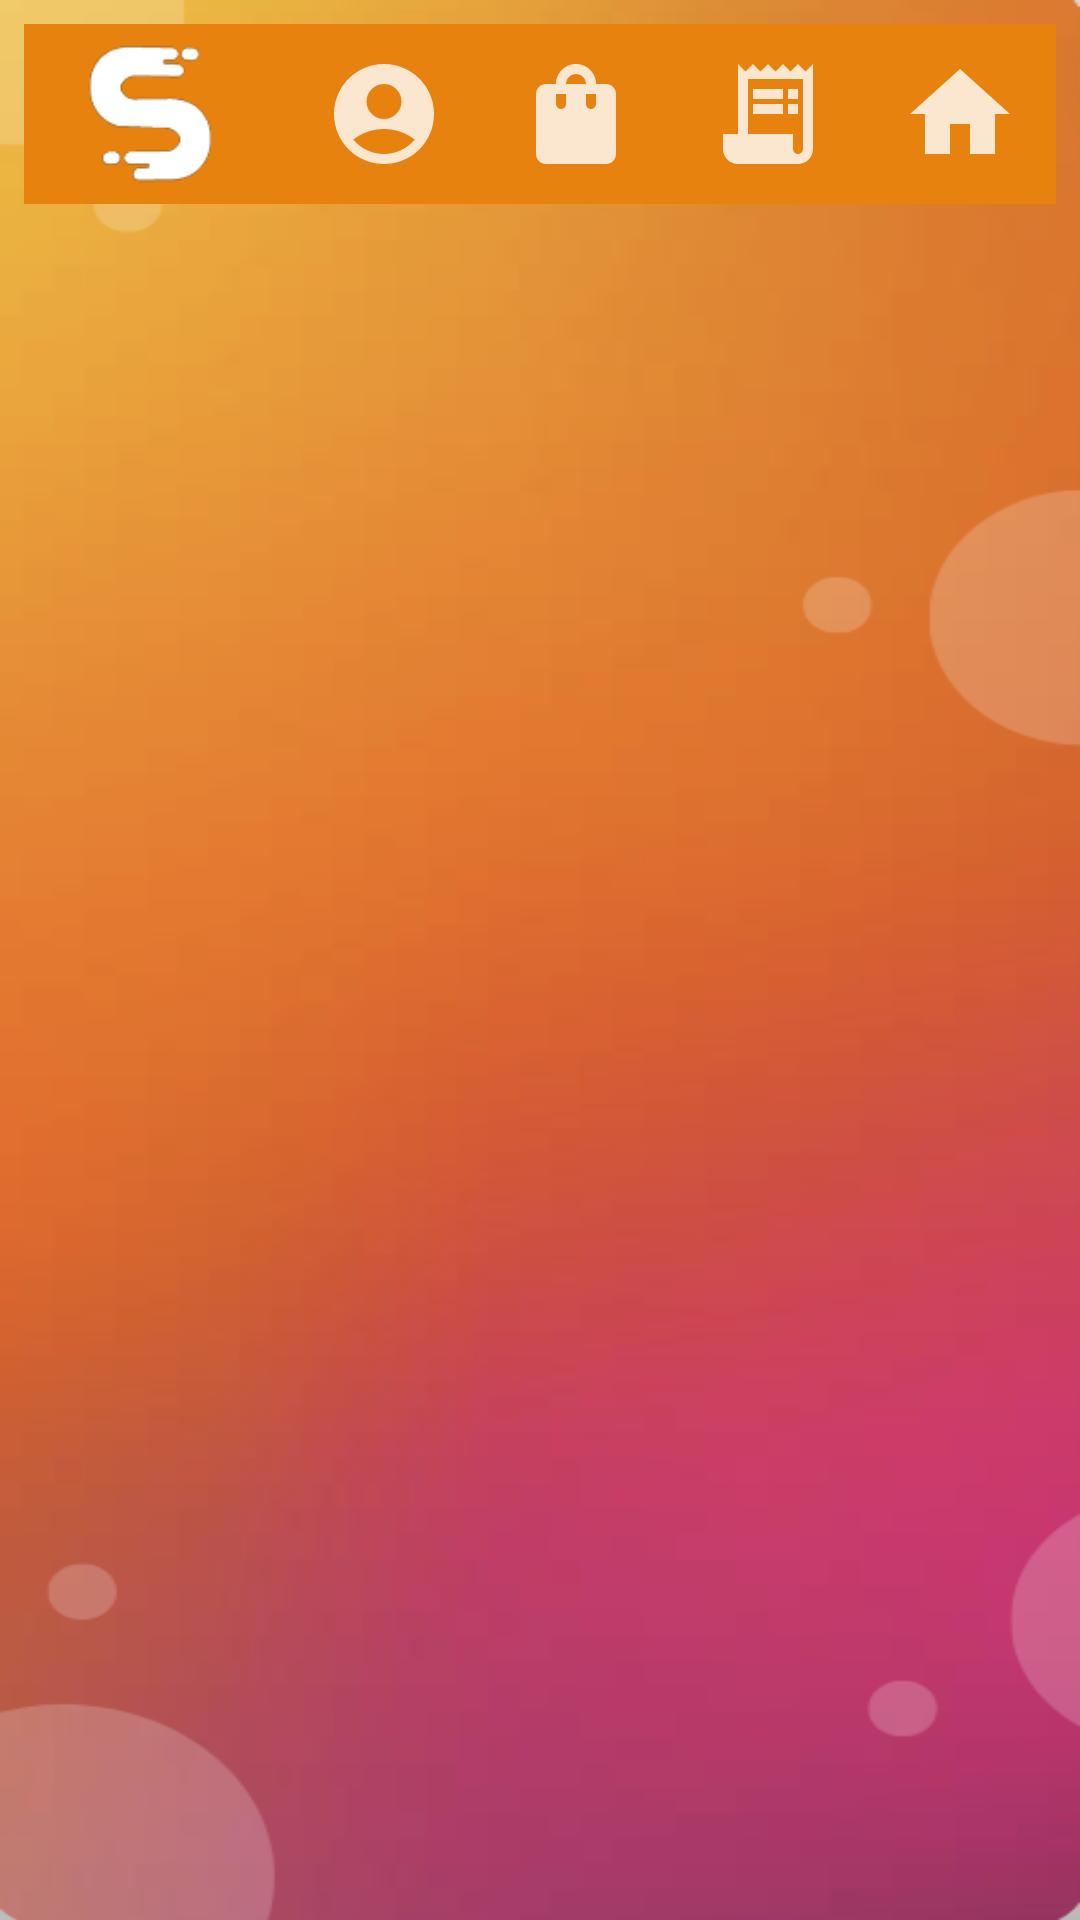

Icon click points for this 1080 × 1920 phone screenshot, format (x=x, y=y):
Accounts: (x=384, y=114)
Orders: (x=768, y=114)
